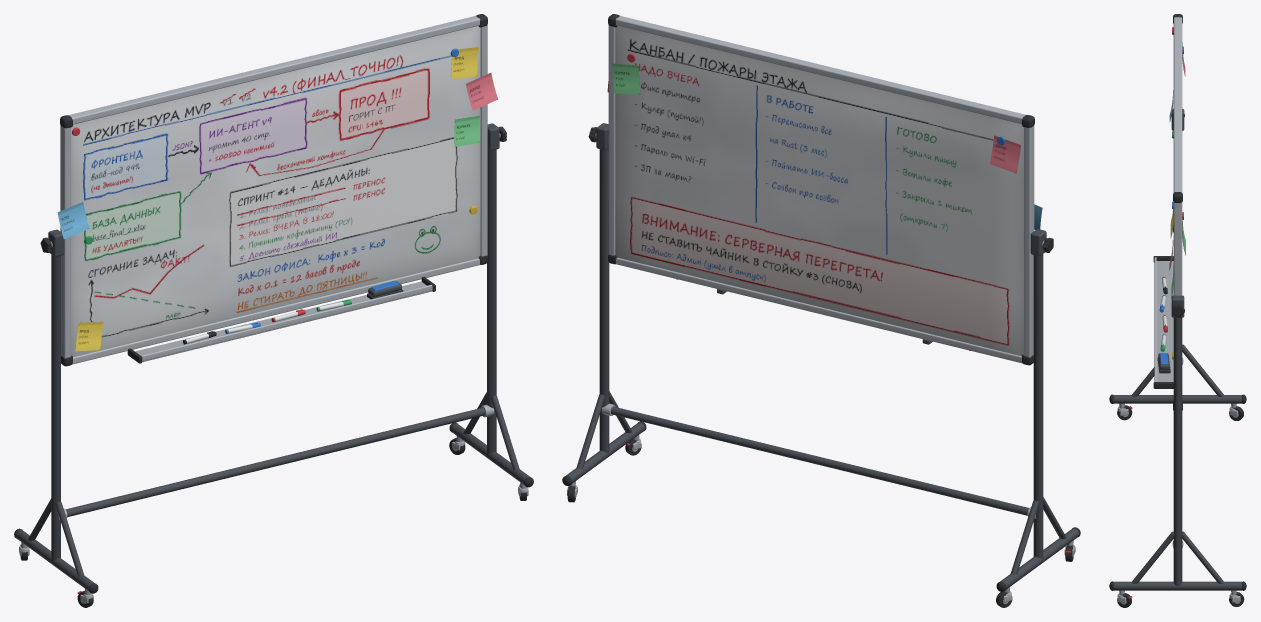
Rendered from prop_whiteboard.glb.
3 views of the same model, side by side, from view 1: azimuth 30°, elevation 25°; view 2: azimuth 150°, elevation 25°; view 3: azimuth 270°, elevation 25° (orthographic). The views are drawn at different scales.
Visible parts, largest first — view 1: prop_whiteboard; view 2: prop_whiteboard; view 3: prop_whiteboard.
Part boxes in pixels (bbox=[...]): prop_whiteboard: bbox=[14, 14, 533, 607]; prop_whiteboard: bbox=[562, 14, 1080, 607]; prop_whiteboard: bbox=[1109, 14, 1246, 607].
Bounding box in the file's own units: 1.96 × 1.89 × 0.576.
Materials: 11 (2 with a texture image).
